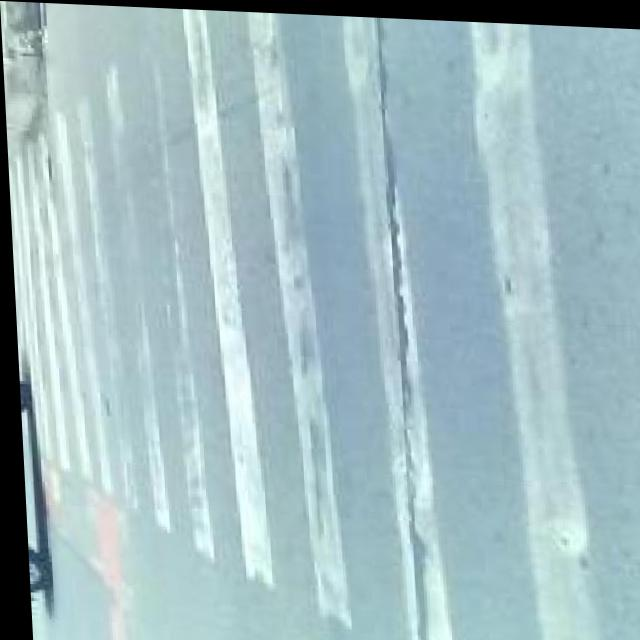zebra: (30, 119, 573, 484)
